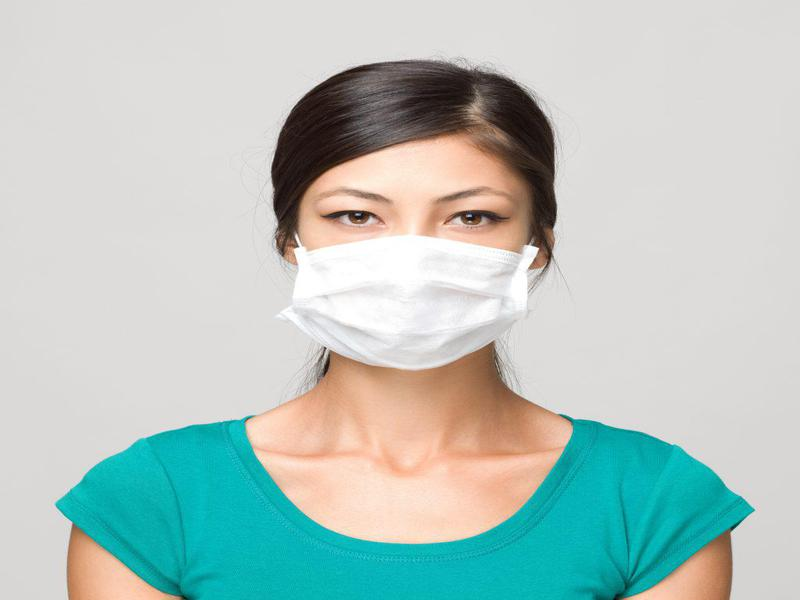with_mask: (279, 127, 540, 375)
